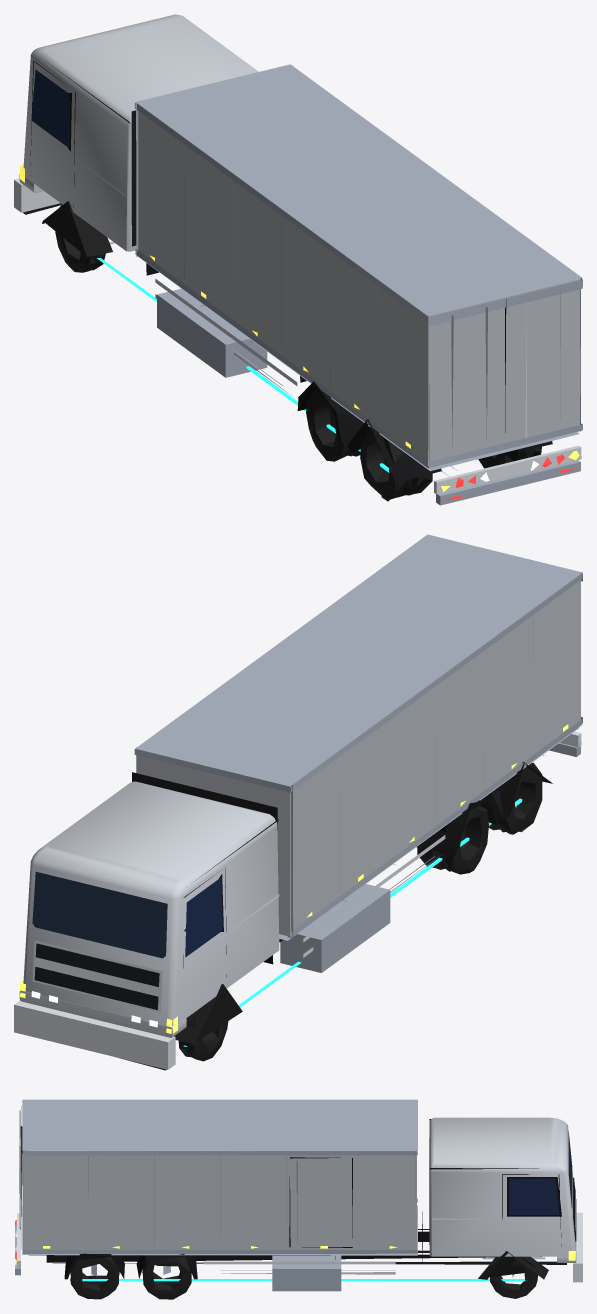
File: dekotora_truck_alubox_lod2.glb
The picture shows the model from 3 angles, top to bottom: view 1: azimuth 30°, elevation 25°; view 2: azimuth 150°, elevation 25°; view 3: azimuth 270°, elevation 25°; orthographic projection. The views are drawn at different scales.
Parts seen in each view (by area): view 1: lod2_box_alu, lod2_steel, lod2_paint_white_panel, lod2_rubber_tire, lod2_chrome, lod2_plastic_black, lod2_plastic_trim, lod2_glass; view 2: lod2_steel, lod2_box_alu, lod2_paint_white_panel, lod2_chrome, lod2_glass_wind, lod2_rubber_tire, lod2_vent_slots, lod2_plastic_trim, lod2_plastic_black, lod2_glass; view 3: lod2_box_alu, lod2_steel, lod2_paint_white_panel, lod2_plastic_black, lod2_rubber_tire, lod2_chrome, lod2_glass, lod2_plastic_trim, lod2_lamp_cyan.
Part boxes in pixels (x1=…): lod2_box_alu: x1=138, y1=104, x2=580, y2=466; lod2_steel: x1=109, y1=64, x2=582, y2=505; lod2_paint_white_panel: x1=19, y1=14, x2=258, y2=251; lod2_rubber_tire: x1=55, y1=205, x2=541, y2=501; lod2_chrome: x1=14, y1=131, x2=581, y2=494; lod2_plastic_black: x1=23, y1=61, x2=552, y2=482; lod2_plastic_trim: x1=42, y1=110, x2=136, y2=256; lod2_glass: x1=31, y1=70, x2=69, y2=147; lod2_steel: x1=134, y1=534, x2=582, y2=972; lod2_box_alu: x1=137, y1=574, x2=580, y2=936; lod2_paint_white_panel: x1=19, y1=781, x2=279, y2=1037; lod2_chrome: x1=14, y1=731, x2=581, y2=1069; lod2_glass_wind: x1=32, y1=871, x2=167, y2=958; lod2_rubber_tire: x1=178, y1=762, x2=542, y2=1061; lod2_vent_slots: x1=34, y1=943, x2=159, y2=1009; lod2_plastic_trim: x1=132, y1=772, x2=277, y2=1044; lod2_plastic_black: x1=119, y1=755, x2=552, y2=1070; lod2_glass: x1=185, y1=877, x2=222, y2=957; lod2_box_alu: x1=23, y1=1150, x2=416, y2=1249; lod2_steel: x1=15, y1=1099, x2=545, y2=1291; lod2_paint_white_panel: x1=429, y1=1117, x2=576, y2=1262; lod2_plastic_black: x1=20, y1=1119, x2=566, y2=1279; lod2_rubber_tire: x1=70, y1=1255, x2=537, y2=1299; lod2_chrome: x1=17, y1=1110, x2=582, y2=1282; lod2_glass: x1=509, y1=1178, x2=559, y2=1214; lod2_plastic_trim: x1=429, y1=1119, x2=548, y2=1279; lod2_lamp_cyan: x1=82, y1=1279, x2=537, y2=1281.
Bounding box in the file's own units: 2.67 × 3.47 × 11.82.
Materials: 14 (5 with a texture image).
